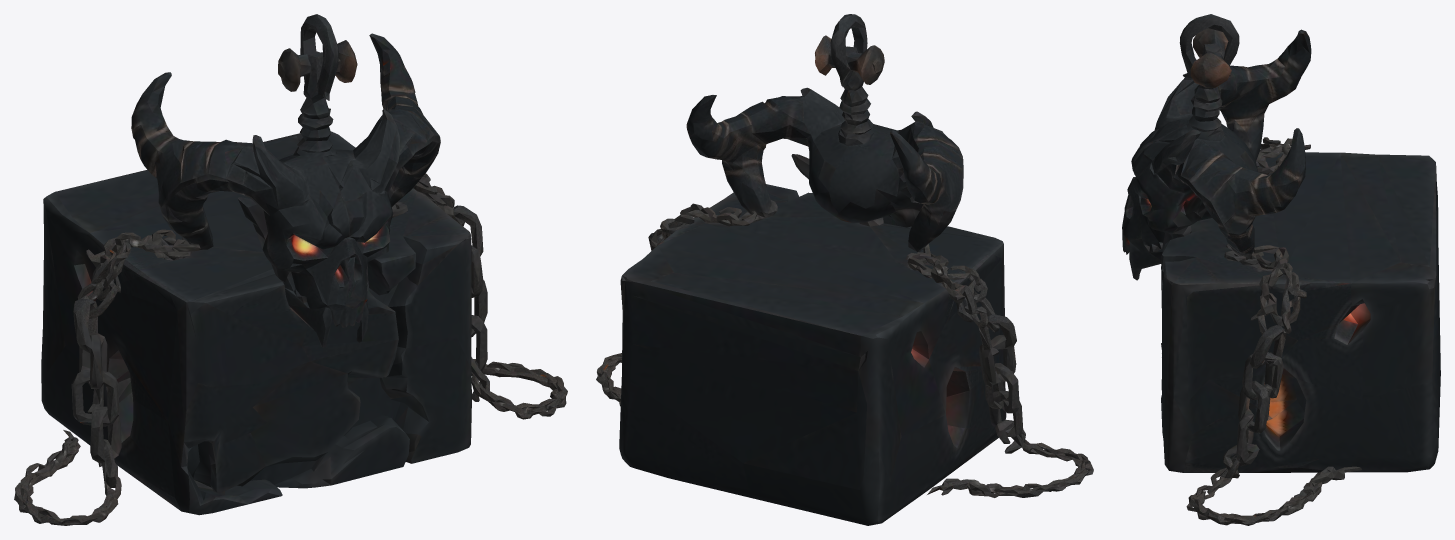
Rendered from wave-lever-dd8b11f6cfba.glb.
3 views of the same model, side by side, from view 1: azimuth 30°, elevation 25°; view 2: azimuth 150°, elevation 25°; view 3: azimuth 270°, elevation 25° (orthographic). The views are drawn at different scales.
Size of the model in its own units: 1.9 by 1.5 by 1.08.
Materials: 1 (1 with a texture image).
